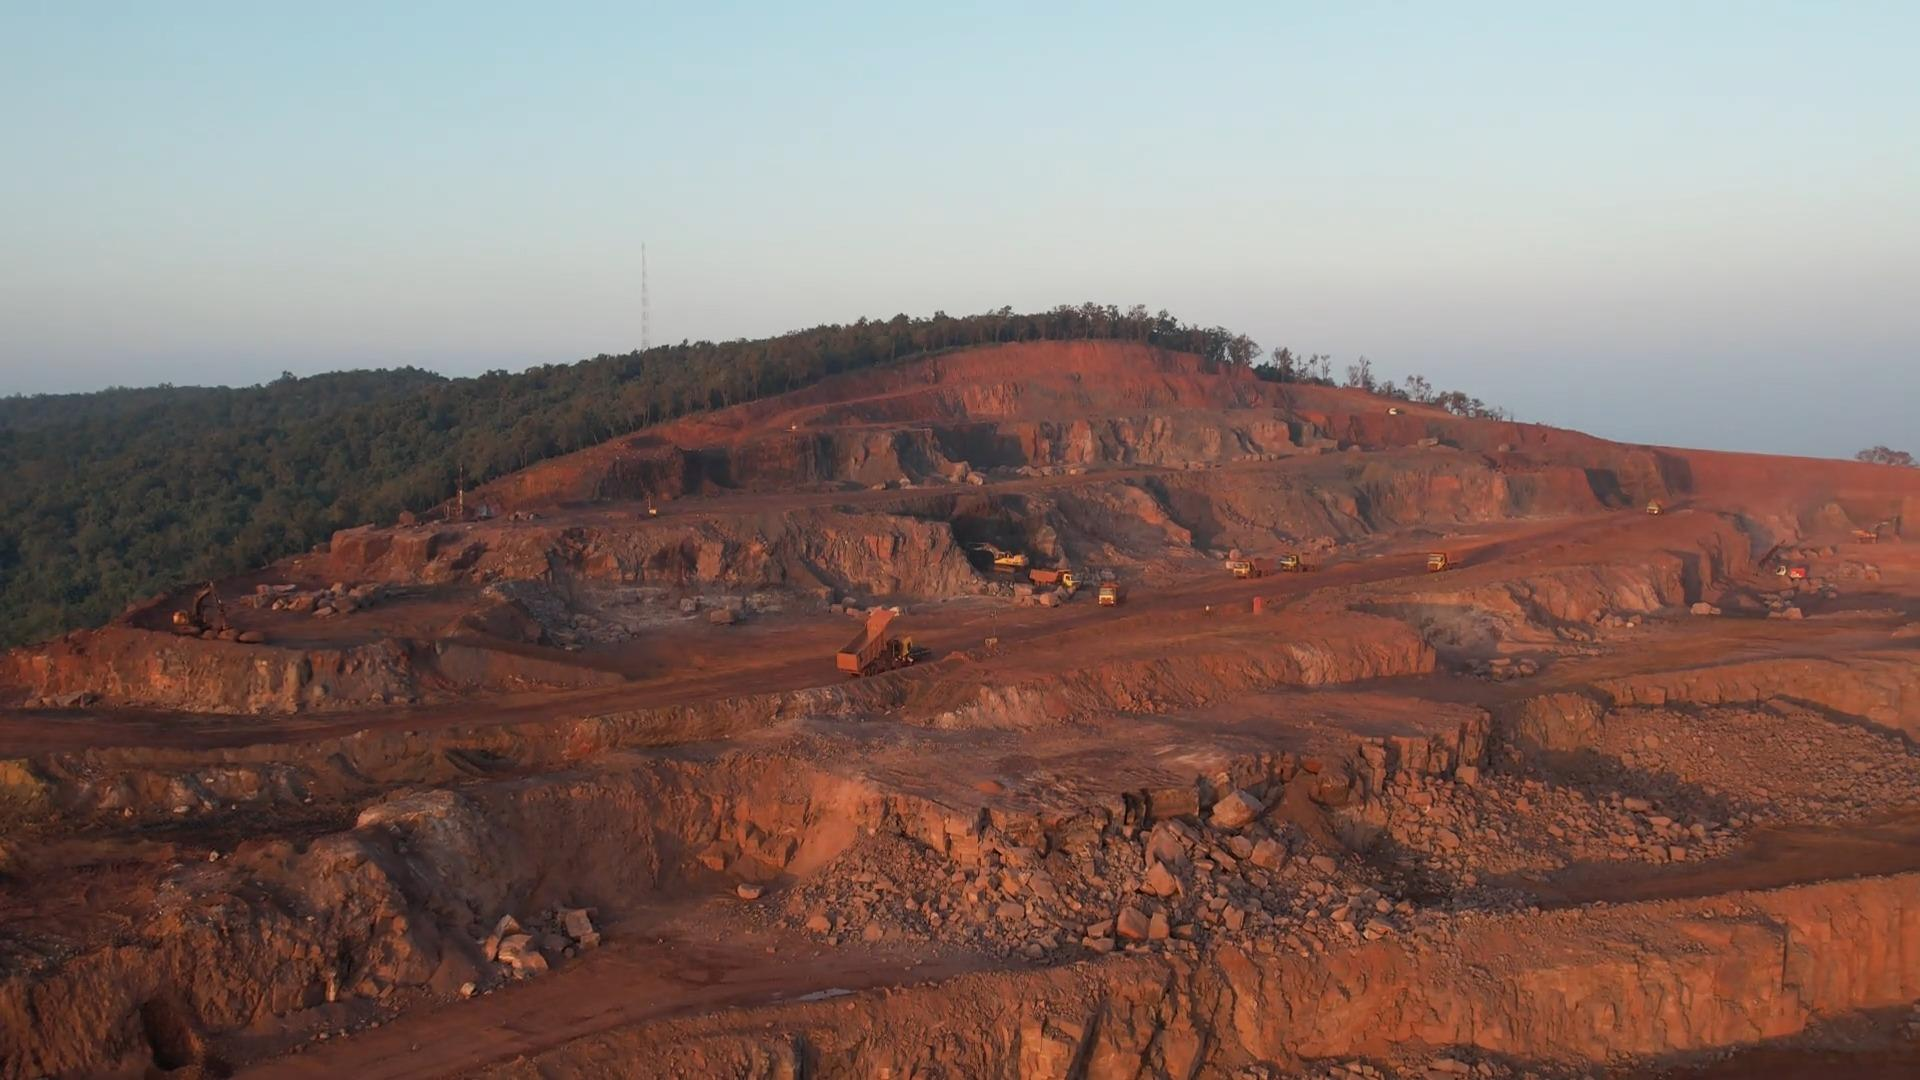excavator: (171, 579, 236, 637), (973, 539, 1029, 575)
